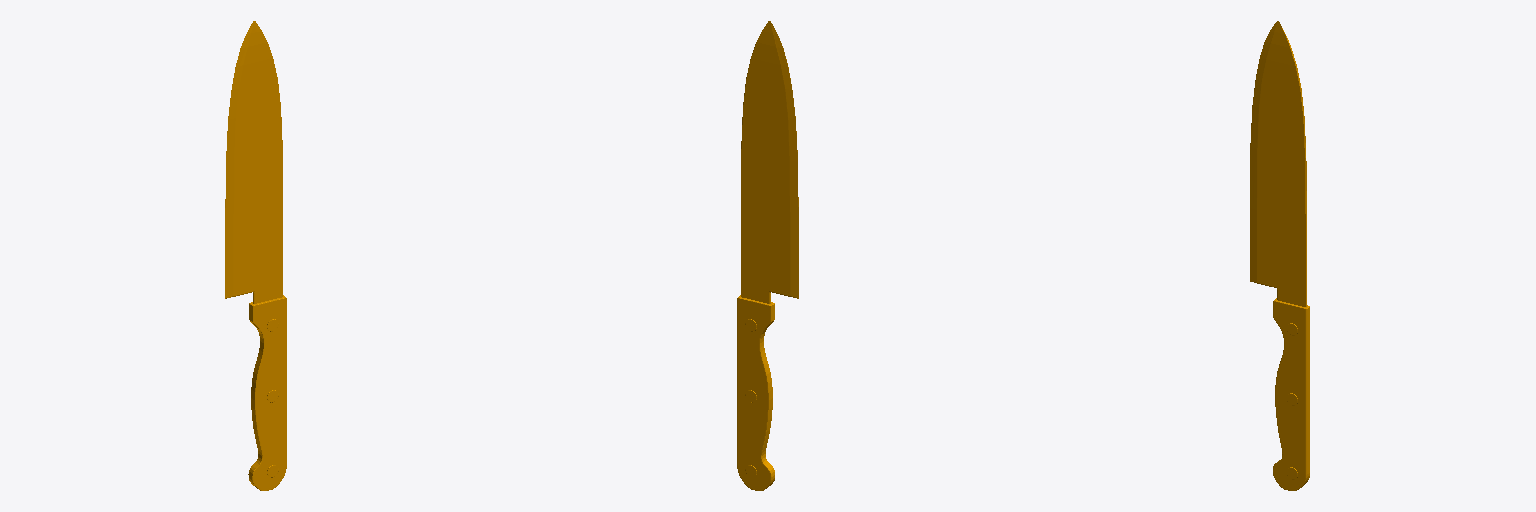
The robot description file, URDF, robot "knife":
<robot name="knife">
    <link name="knife">
        <visual>
            <geometry>
                <mesh filename="knife.stl" />
            </geometry>
        </visual>
        <collision>
            <geometry>
                <mesh filename="knife.stl"/>
            </geometry>
        </collision>
    </link>
</robot>

--- Render facts (derived) ---
3 views of the same robot in one strip: view 1: azimuth 30°, elevation 25°; view 2: azimuth 150°, elevation 25°; view 3: azimuth 330°, elevation 25° (orthographic).
Model knife with 1 links and 0 joints (none), rooted at knife, posed all joints at 0.
Links seen in each view (by area): view 1: knife; view 2: knife; view 3: knife.
Boxes of the visible links, left/top/right/bottom form: knife: left=225, top=21, right=286, bottom=490; knife: left=737, top=21, right=798, bottom=490; knife: left=1250, top=21, right=1309, bottom=490.
Bounding box of the posed robot: 0.0353 × 0.0048 × 0.2669 m (x, y, z).
1 mesh visuals loaded from 1 distinct referenced files (1 binary STL).